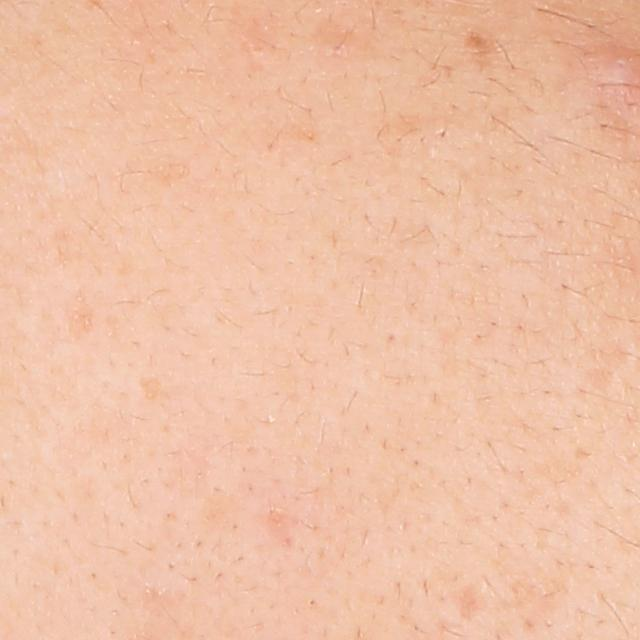atrophic_scar: (587, 332, 634, 390), (450, 581, 487, 625)
